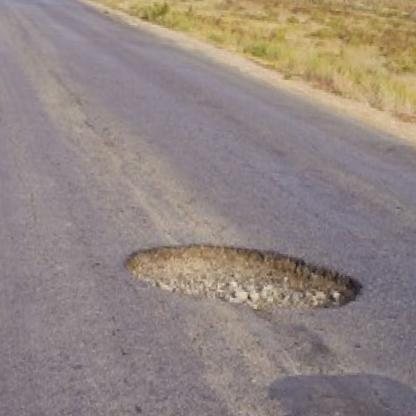pothole: (120, 238, 366, 318)
